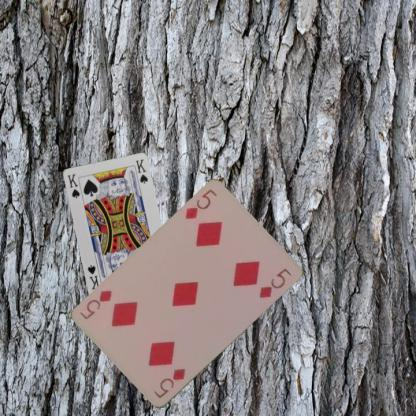5d: (181, 186, 219, 221), (150, 366, 186, 400)
Ks: (65, 171, 81, 199)
